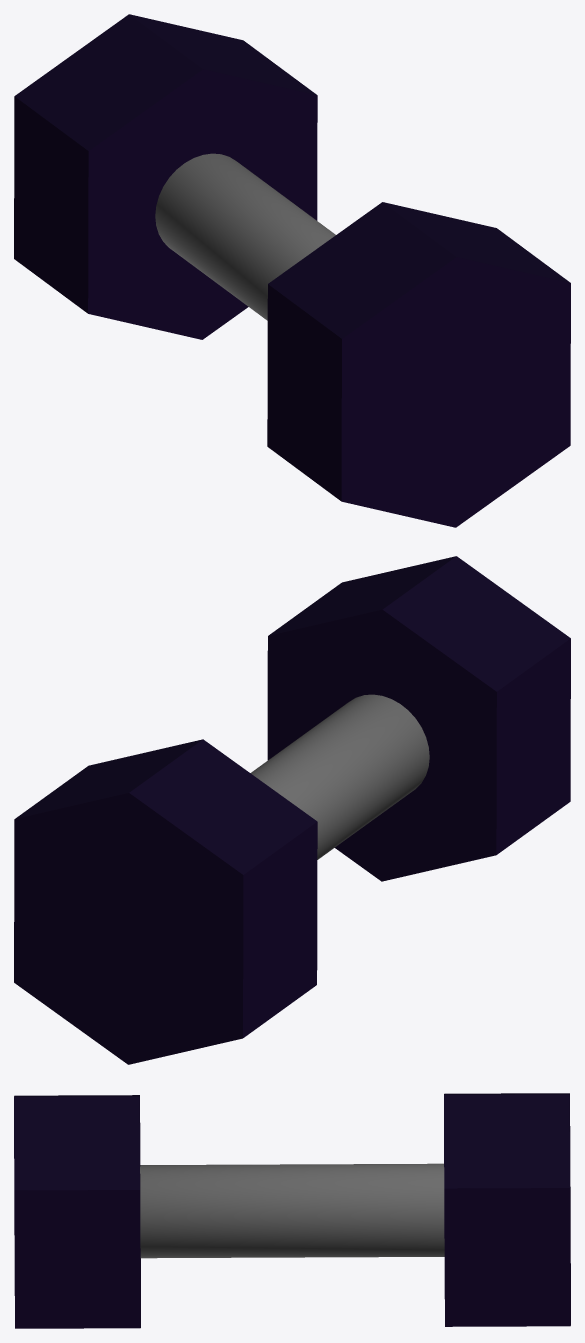
File: weights.fbx
The picture shows the model from 3 angles, top to bottom: view 1: azimuth 30°, elevation 25°; view 2: azimuth 150°, elevation 25°; view 3: azimuth 270°, elevation 25°; orthographic projection. The views are drawn at different scales.
Parts seen in each view (by area): view 1: wights, rod; view 2: wights, rod; view 3: wights, rod.
Boxes of the visible parts, bbox=[...] form: wights: bbox=[14, 14, 570, 527]; rod: bbox=[155, 153, 335, 320]; wights: bbox=[14, 556, 570, 1064]; rod: bbox=[250, 694, 429, 859]; wights: bbox=[14, 1093, 570, 1328]; rod: bbox=[140, 1163, 444, 1258].
Bounding box in the file's own units: 143 × 163 × 354.
Materials: 2 (2 with a texture image).
